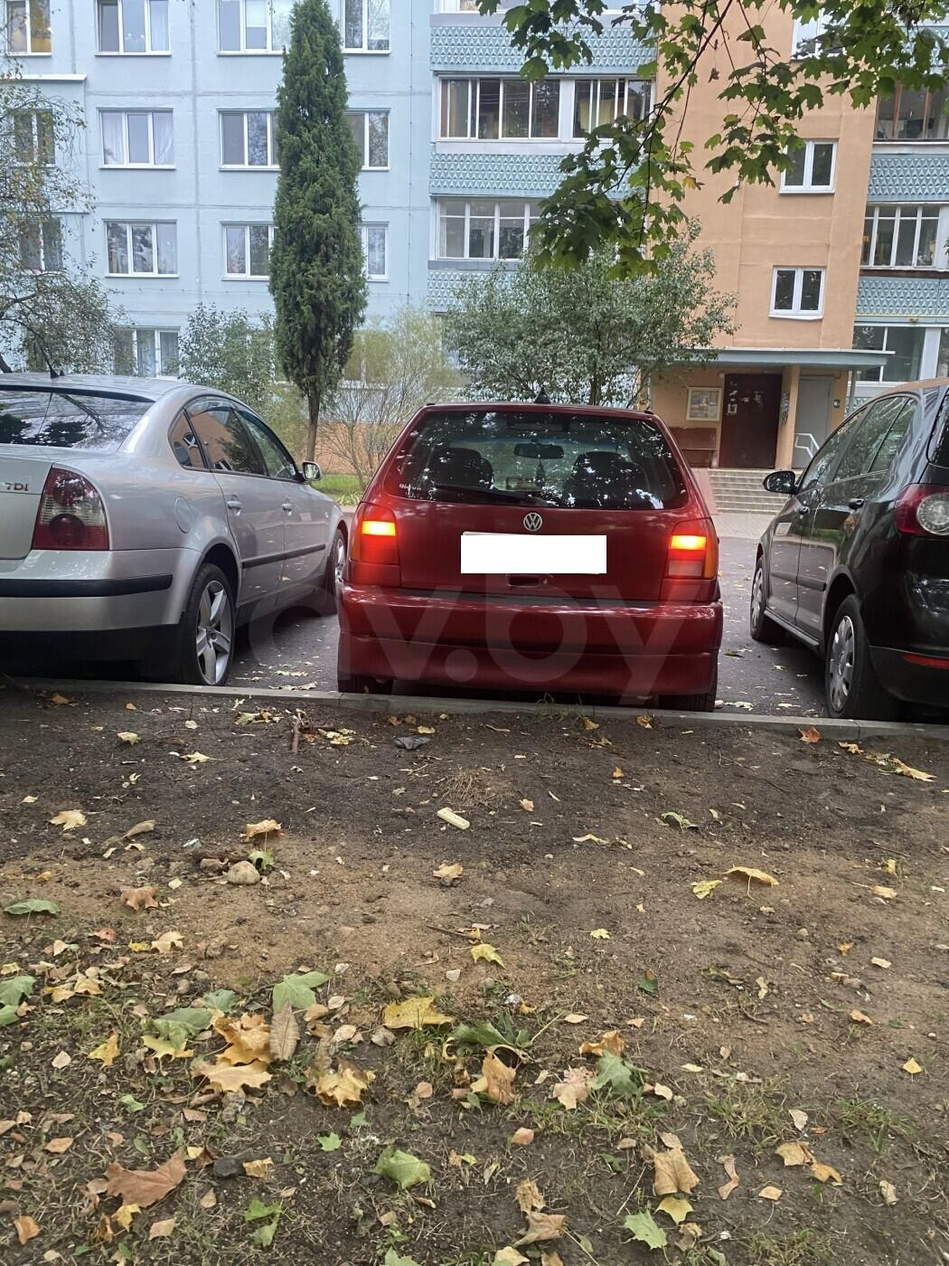Polo_1994-2002: (327, 395, 732, 712)
